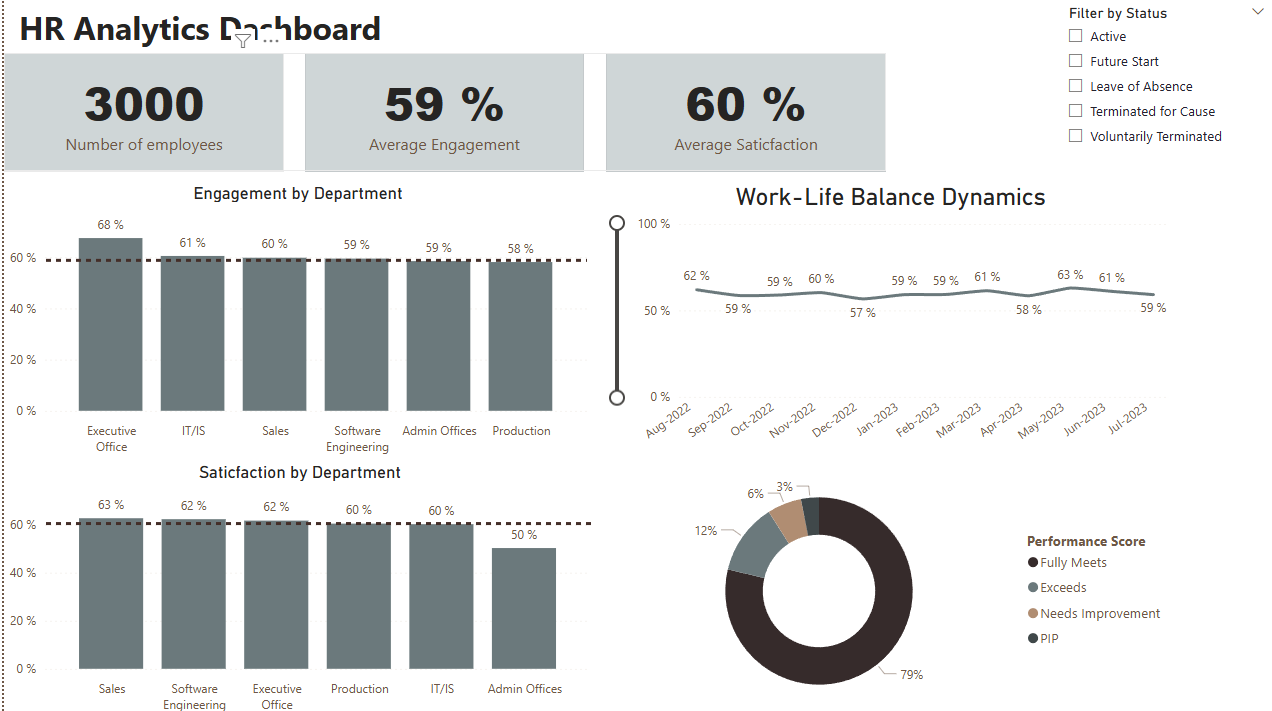

The page's visual inventory and layout, read from the dashboard file:
{"tool":"powerbi","page":{"name":"Dashboard","canvas":[1280,720],"ordinal":7},"visuals":[{"type":"textbox","box":[9.6,0,403.4,70],"z":0},{"type":"group","id":"g1","title":"Group 1","box":[0,52.5,882.2,118.7],"z":1000},{"type":"card","fields":{"Values":["CountNonNull(employee_engagement_survey_data.EmpID)"]},"box":[0,52.5,279.9,119.4],"z":1000,"group":"g1"},{"type":"card","fields":{"Values":["employee_engagement_survey_data.% AverageEngagement"]},"box":[300.5,52.5,279.9,119.4],"z":2000,"group":"g1"},{"type":"clusteredColumnChart","title":"Engagement by Department","fields":{"Category":["employee_data.DepartmentType"],"Y":["employee_engagement_survey_data.% AverageEngagement"]},"box":[0,182.9,588.4,279.1],"z":2000},{"type":"card","fields":{"Values":["employee_engagement_survey_data.% AverageSaticfaction"]},"box":[602.4,52.5,279.9,119.4],"z":3000,"group":"g1"},{"type":"clusteredColumnChart","title":"Saticfaction by Department","fields":{"Y":["employee_engagement_survey_data.% AverageSaticfaction"],"Category":["employee_data.DepartmentType"]},"box":[0,462,592.3,257.8],"z":3000},{"type":"lineChart","title":"Work-Life  Balance Dynamics","fields":{"Y":["employee_engagement_survey_data.% Average WL Balance"],"Category":["Calendar.MonthYear"]},"box":[602.1,182.9,569,279.1],"z":4000},{"type":"slicer","fields":{"Values":["employee_data.EmployeeStatus"]},"box":[1052.4,0,220.8,188.7],"z":5000},{"type":"donutChart","fields":{"Category":["employee_data.Performance Score"],"Y":["CountNonNull(employee_data.Performance Score)"]},"box":[602,462,569,258],"z":5001}]}

Visuals, with their boxes in screenshot pixels (x1, y1, x2, y2), scaled from the page's 1280x720 canvas onto the 1272x711 screenshot:
textbox: Rect(10, 0, 410, 69)
"Group 1" group: Rect(0, 52, 877, 169)
card - CountNonNull(employee_engagement_survey_data.EmpID): Rect(0, 52, 278, 170)
card - employee_engagement_survey_data.% AverageEngagement: Rect(299, 52, 577, 170)
"Engagement by Department" clusteredColumnChart: Rect(0, 181, 585, 456)
card - employee_engagement_survey_data.% AverageSaticfaction: Rect(599, 52, 877, 170)
"Saticfaction by Department" clusteredColumnChart: Rect(0, 456, 589, 710)
"Work-Life  Balance Dynamics" lineChart: Rect(598, 181, 1164, 456)
slicer - employee_data.EmployeeStatus: Rect(1046, 0, 1265, 186)
donutChart - employee_data.Performance Score x CountNonNull(employee_data.Performance Score): Rect(598, 456, 1164, 710)
